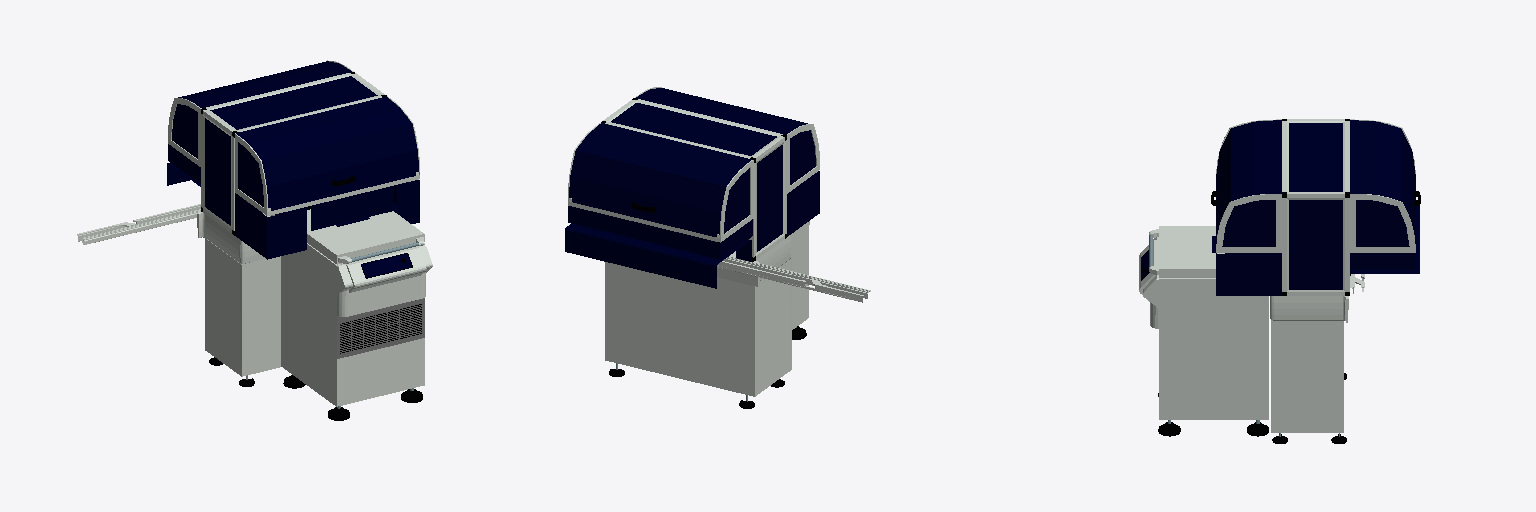
3 views of the same model, side by side, from view 1: azimuth 30°, elevation 25°; view 2: azimuth 150°, elevation 25°; view 3: azimuth 270°, elevation 25° (orthographic).
Visible parts, largest first — view 1: object4, object25, object5, object16, object15, object19, object18; view 2: object4, object17, object25, object5, object15; view 3: object25, object4, object5, object19.
Boxes of the visible parts, <box> form: object4: <box>167,61,419,259</box>; object25: <box>198,209,432,406</box>; object5: <box>168,60,419,232</box>; object16: <box>337,298,424,358</box>; object15: <box>77,204,200,244</box>; object19: <box>209,253,422,420</box>; object18: <box>362,254,411,277</box>; object4: <box>565,88,819,288</box>; object17: <box>605,262,759,396</box>; object25: <box>730,221,809,396</box>; object5: <box>568,87,819,259</box>; object15: <box>717,256,870,302</box>; object25: <box>1139,226,1348,432</box>; object4: <box>1212,120,1419,295</box>; object5: <box>1216,119,1415,295</box>; object19: <box>1141,250,1346,443</box>.
Bounding box in the file's own units: 77.47 × 68.61 × 69.09.
10 materials, 1 textured.